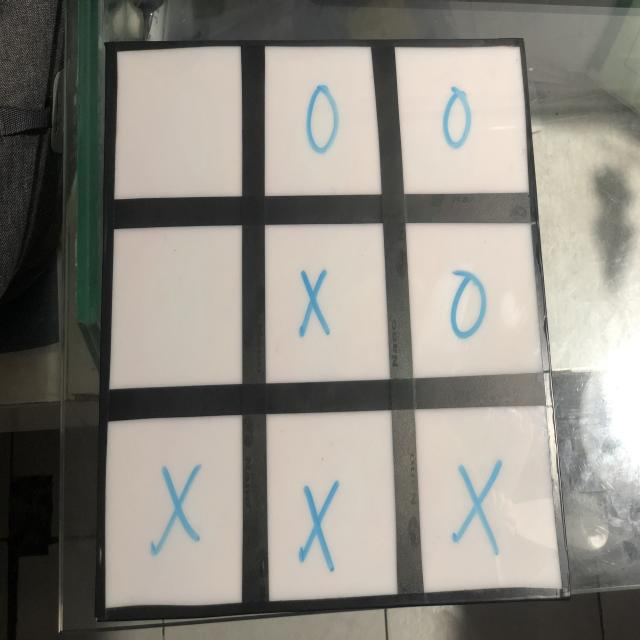null: (106, 223, 247, 390), (115, 48, 243, 203)
o: (303, 74, 347, 160), (445, 266, 494, 343), (438, 86, 478, 155)
table: (77, 28, 567, 615)
x: (146, 457, 209, 562), (451, 456, 506, 553), (295, 479, 344, 572), (292, 265, 334, 349)
